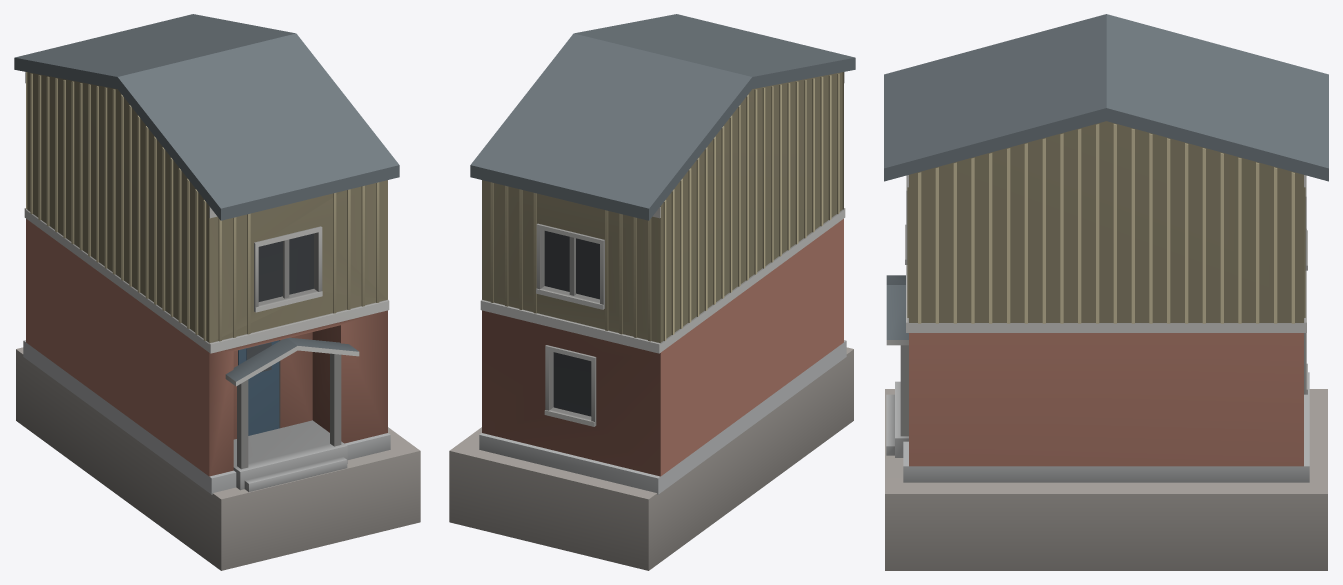
File: terrace_d.glb
3 renders of one model, left to right at view 1: azimuth 30°, elevation 25°; view 2: azimuth 150°, elevation 25°; view 3: azimuth 270°, elevation 25°, orthographic. The views are drawn at different scales.
Visible parts, largest first — view 1: terrace_d; view 2: terrace_d; view 3: terrace_d.
Part boxes in pixels (x1,y1,x2,y2): terrace_d: [14, 14, 420, 570]; terrace_d: [449, 14, 855, 570]; terrace_d: [884, 14, 1328, 570].
Size of the model in its own units: 4.48 by 8.96 by 8.
